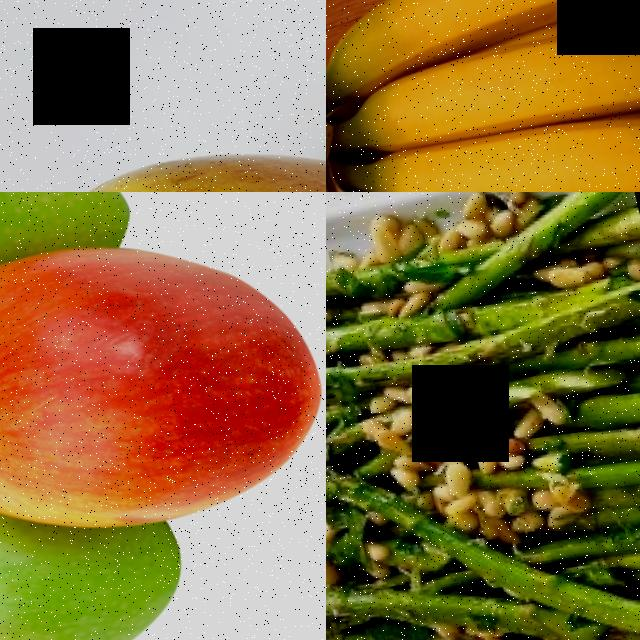apple: (0, 192, 326, 587), (0, 51, 326, 192), (0, 466, 213, 640)
asparagus: (326, 225, 614, 406), (326, 519, 504, 640)
banana: (326, 0, 640, 192)
